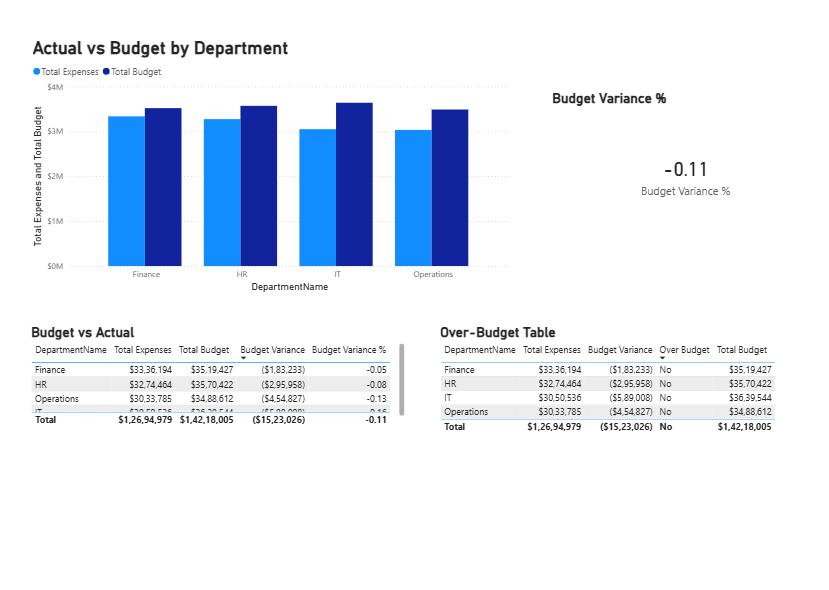

The page's visual inventory and layout, read from the dashboard file:
{"tool":"powerbi","page":{"name":"Page 3","canvas":[1280,990],"ordinal":2},"visuals":[{"type":"clusteredColumnChart","title":"Actual vs Budget by Department","fields":{"Category":["Departments.DepartmentName"],"Y":["Measures (2).Total Expenses","Measures (2).Total Budget"]},"box":[57.4,99,716.8,382.1],"z":0},{"type":"card","title":"Budget Variance %","fields":{"Values":["Measures (2).Budget Variance %"]},"box":[828,178.6,404.6,226.1],"z":1000},{"type":"tableEx","title":"Budget vs Actual","fields":{"Values":["Departments.DepartmentName","Measures (2).Total Expenses","Measures (2).Total Budget","Measures (2).Budget Variance","Measures (2).Budget Variance %"]},"box":[56.7,523.3,563.3,156.7],"z":2000},{"type":"tableEx","title":"Over-Budget Table","fields":{"Values":["Departments.DepartmentName","Measures (2).Total Expenses","Measures (2).Budget Variance","Measures (2).Over Budget","Measures (2).Total Budget"]},"box":[661.7,523.3,538.3,173.3],"z":3000}]}

Visuals, with their boxes on the page's 1280x990 design canvas (x1, y1, x2, y2). These are canvas units, not pixel positions in the 829x590 screenshot, which may show the page scaled, cropped or inside an application window:
"Actual vs Budget by Department" clusteredColumnChart: 57/99/774/481
"Budget Variance %" card: 828/179/1233/405
"Budget vs Actual" tableEx: 57/523/620/680
"Over-Budget Table" tableEx: 662/523/1200/697
